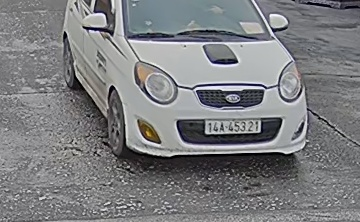vehicle plate: (201, 117, 262, 135)
